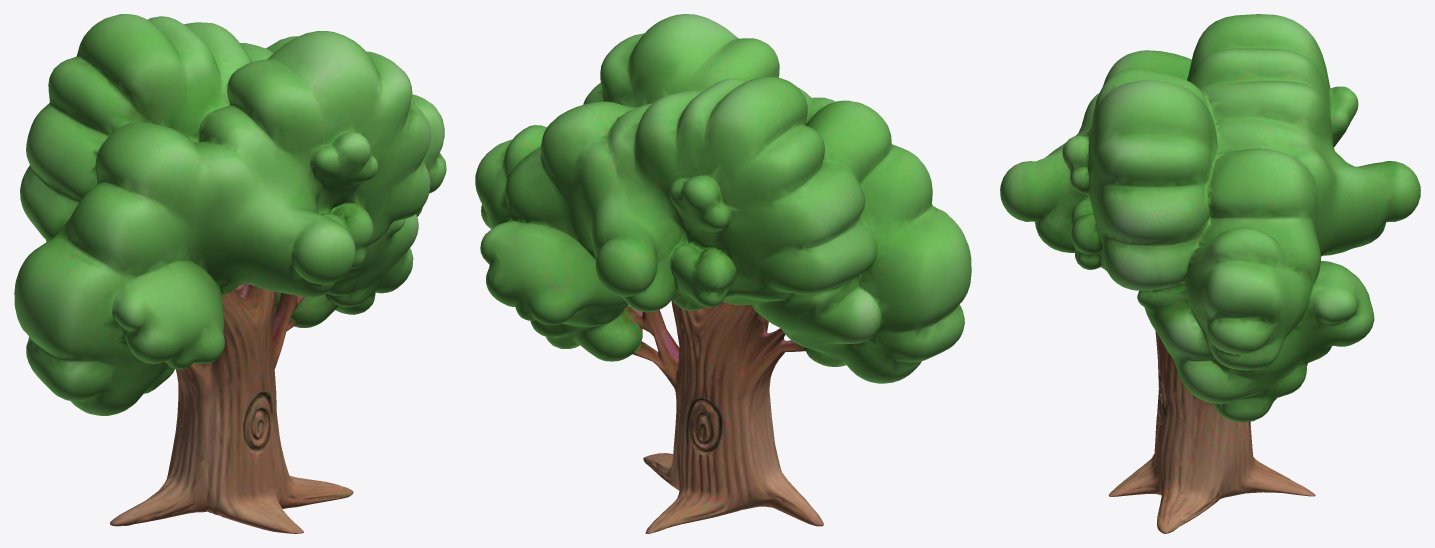
3 views of the same model, side by side, from view 1: azimuth 30°, elevation 25°; view 2: azimuth 150°, elevation 25°; view 3: azimuth 270°, elevation 25° (orthographic). The views are drawn at different scales.
Visible parts, largest first — view 1: mesh_node; view 2: mesh_node; view 3: mesh_node.
Part boxes in pixels (x1,y1,x2,y2): mesh_node: (14, 14, 446, 533); mesh_node: (475, 14, 971, 533); mesh_node: (1000, 14, 1420, 533).
Size of the model in its own units: 1.9 by 1.87 by 1.62.
Materials: 1 (1 with a texture image).
